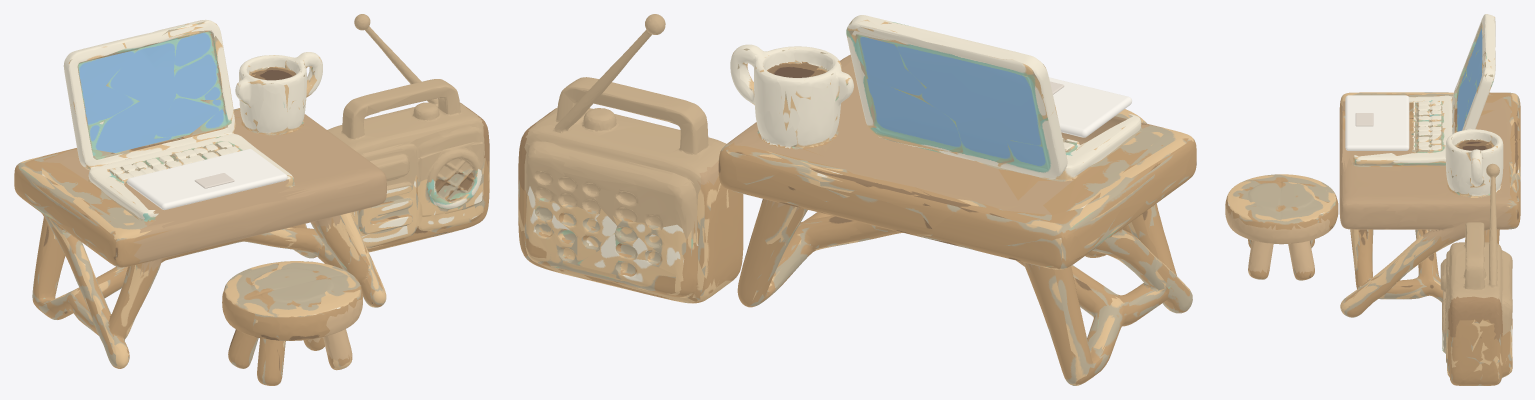
File: folding-laptop-radio-workstation-noise-clean-v1.glb
3 renders of one model, left to right at view 1: azimuth 30°, elevation 25°; view 2: azimuth 150°, elevation 25°; view 3: azimuth 270°, elevation 25°, orthographic. The views are drawn at different scales.
Parts seen in each view (by area): view 1: folding-laptop-radio-workstation-flat-source-v4; view 2: folding-laptop-radio-workstation-flat-source-v4; view 3: folding-laptop-radio-workstation-flat-source-v4.
Part boxes in pixels (box(x1,y1,x2,y2)): folding-laptop-radio-workstation-flat-source-v4: box(14, 14, 489, 385); folding-laptop-radio-workstation-flat-source-v4: box(518, 14, 1196, 385); folding-laptop-radio-workstation-flat-source-v4: box(1225, 14, 1520, 385).
Bounding box in the file's own units: 1.9 × 1.04 × 1.3.
Materials: 7 (1 with a texture image).
